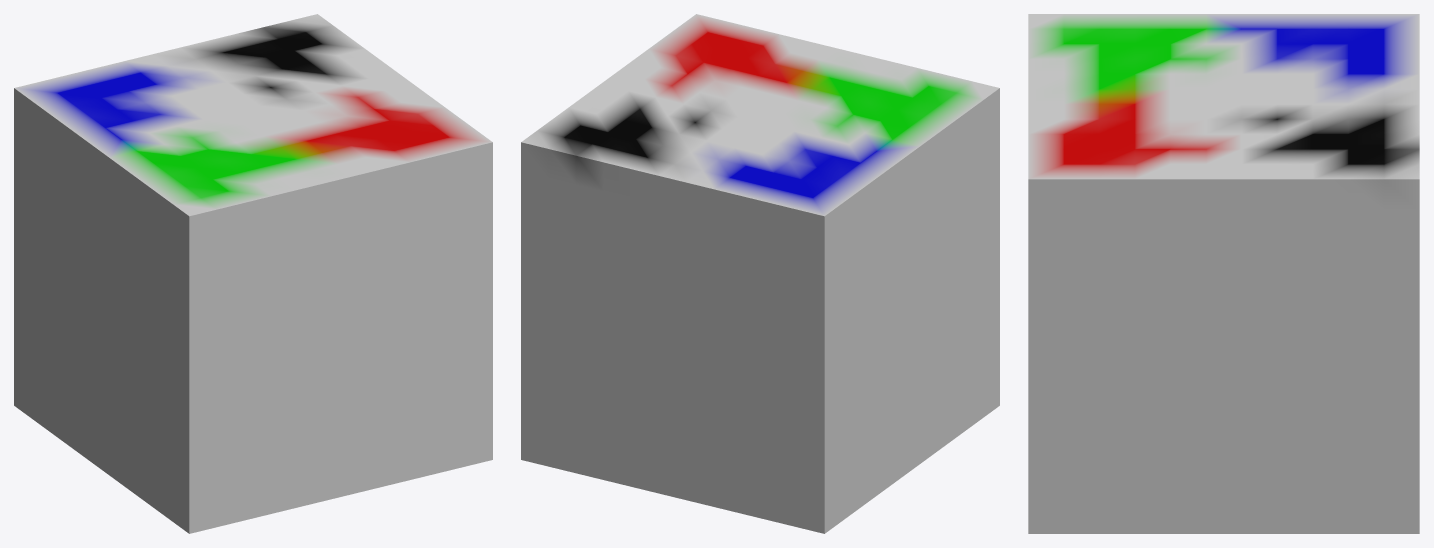
File: TestCubeMaterials.glb
3 renders of one model, left to right at view 1: azimuth 30°, elevation 25°; view 2: azimuth 150°, elevation 25°; view 3: azimuth 270°, elevation 25°, orthographic. The views are drawn at different scales.
Parts seen in each view (by area): view 1: Cube; view 2: Cube; view 3: Cube.
Boxes of the visible parts, bbox=[...] form: Cube: bbox=[14, 14, 492, 533]; Cube: bbox=[521, 14, 999, 533]; Cube: bbox=[1028, 14, 1419, 533].
Size of the model in its own units: 2 by 2 by 2.
